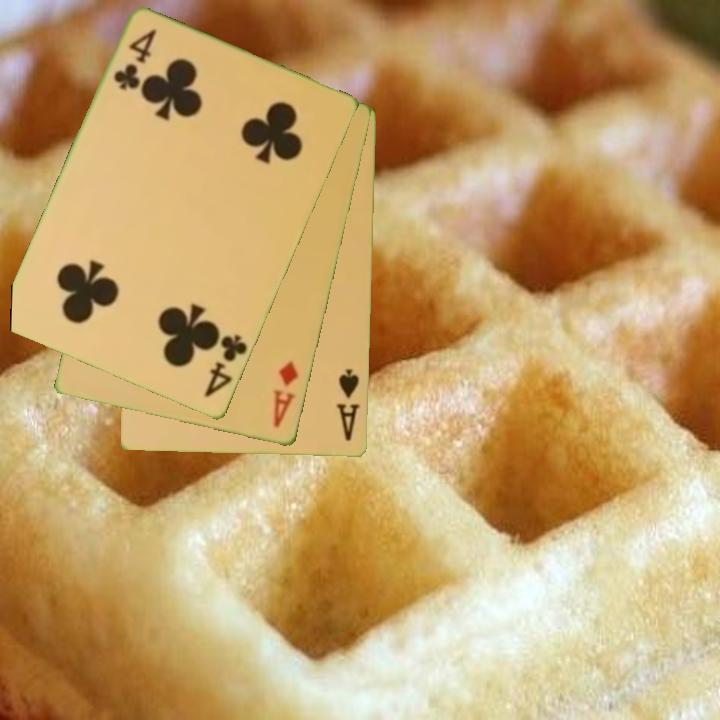4c: (201, 331, 251, 401), (110, 26, 160, 94)
Ad: (270, 358, 302, 431)
As: (332, 366, 363, 444)
